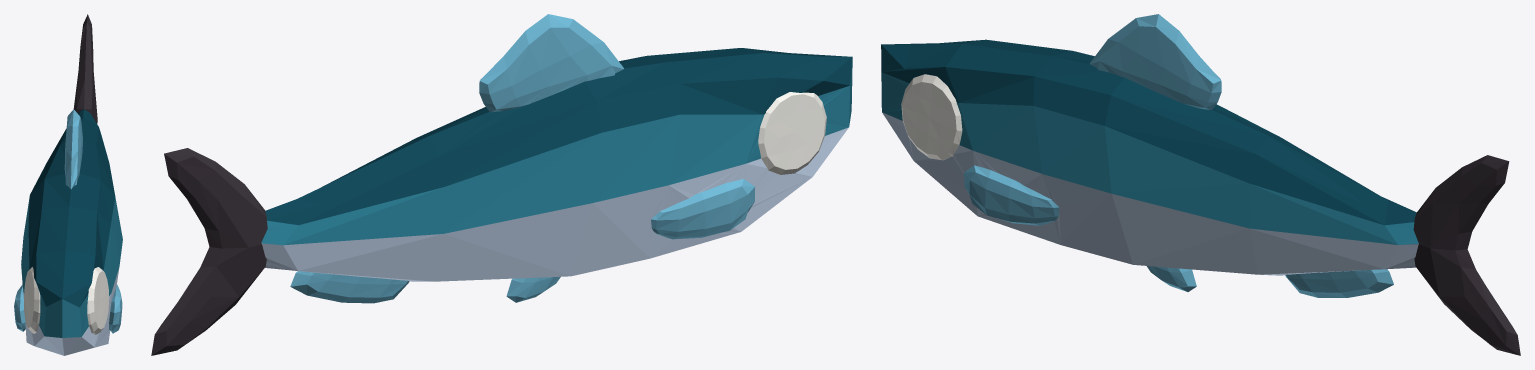
Rendered from swfish.glb.
3 renders of one model, left to right at view 1: azimuth 30°, elevation 25°; view 2: azimuth 150°, elevation 25°; view 3: azimuth 270°, elevation 25°, orthographic. The views are drawn at different scales.
Visible parts, largest first — view 1: Mesh_5; view 2: Mesh_5; view 3: Mesh_5.
Boxes of the visible parts, x1,y1,x2,y2 form: Mesh_5: [14, 14, 122, 355]; Mesh_5: [151, 14, 852, 355]; Mesh_5: [881, 14, 1520, 355].
Bounding box in the file's own units: 0.6106 × 0.4344 × 0.9314.
Materials: 1 (1 with a texture image).
